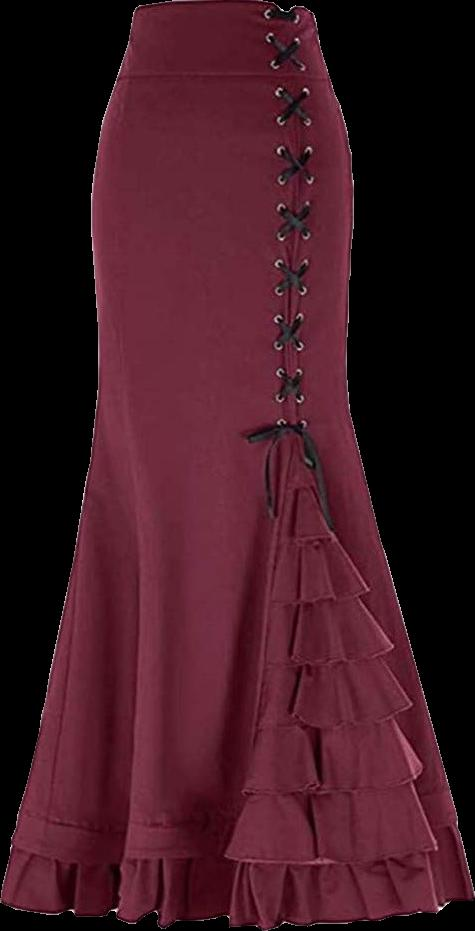Hemline: (8, 483, 461, 872), (0, 892, 474, 930)
Waistline: (114, 67, 330, 88), (132, 0, 310, 19)
